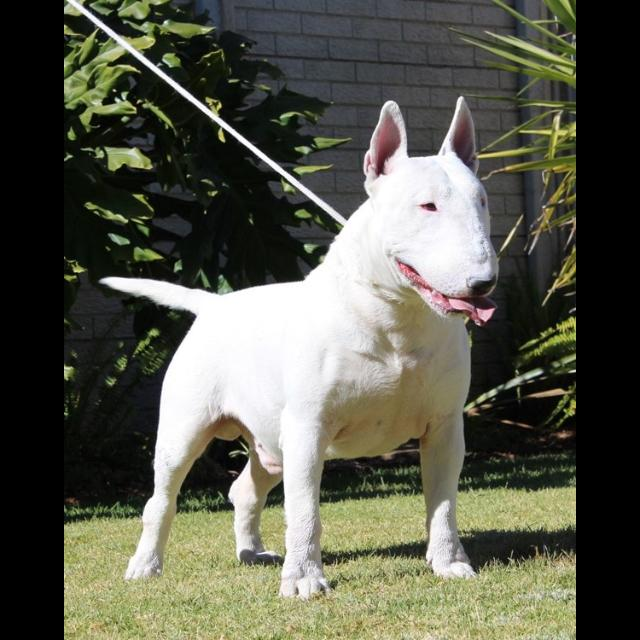bullterrier: (99, 96, 501, 602)
